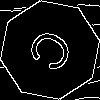C: (25, 25, 83, 81)
